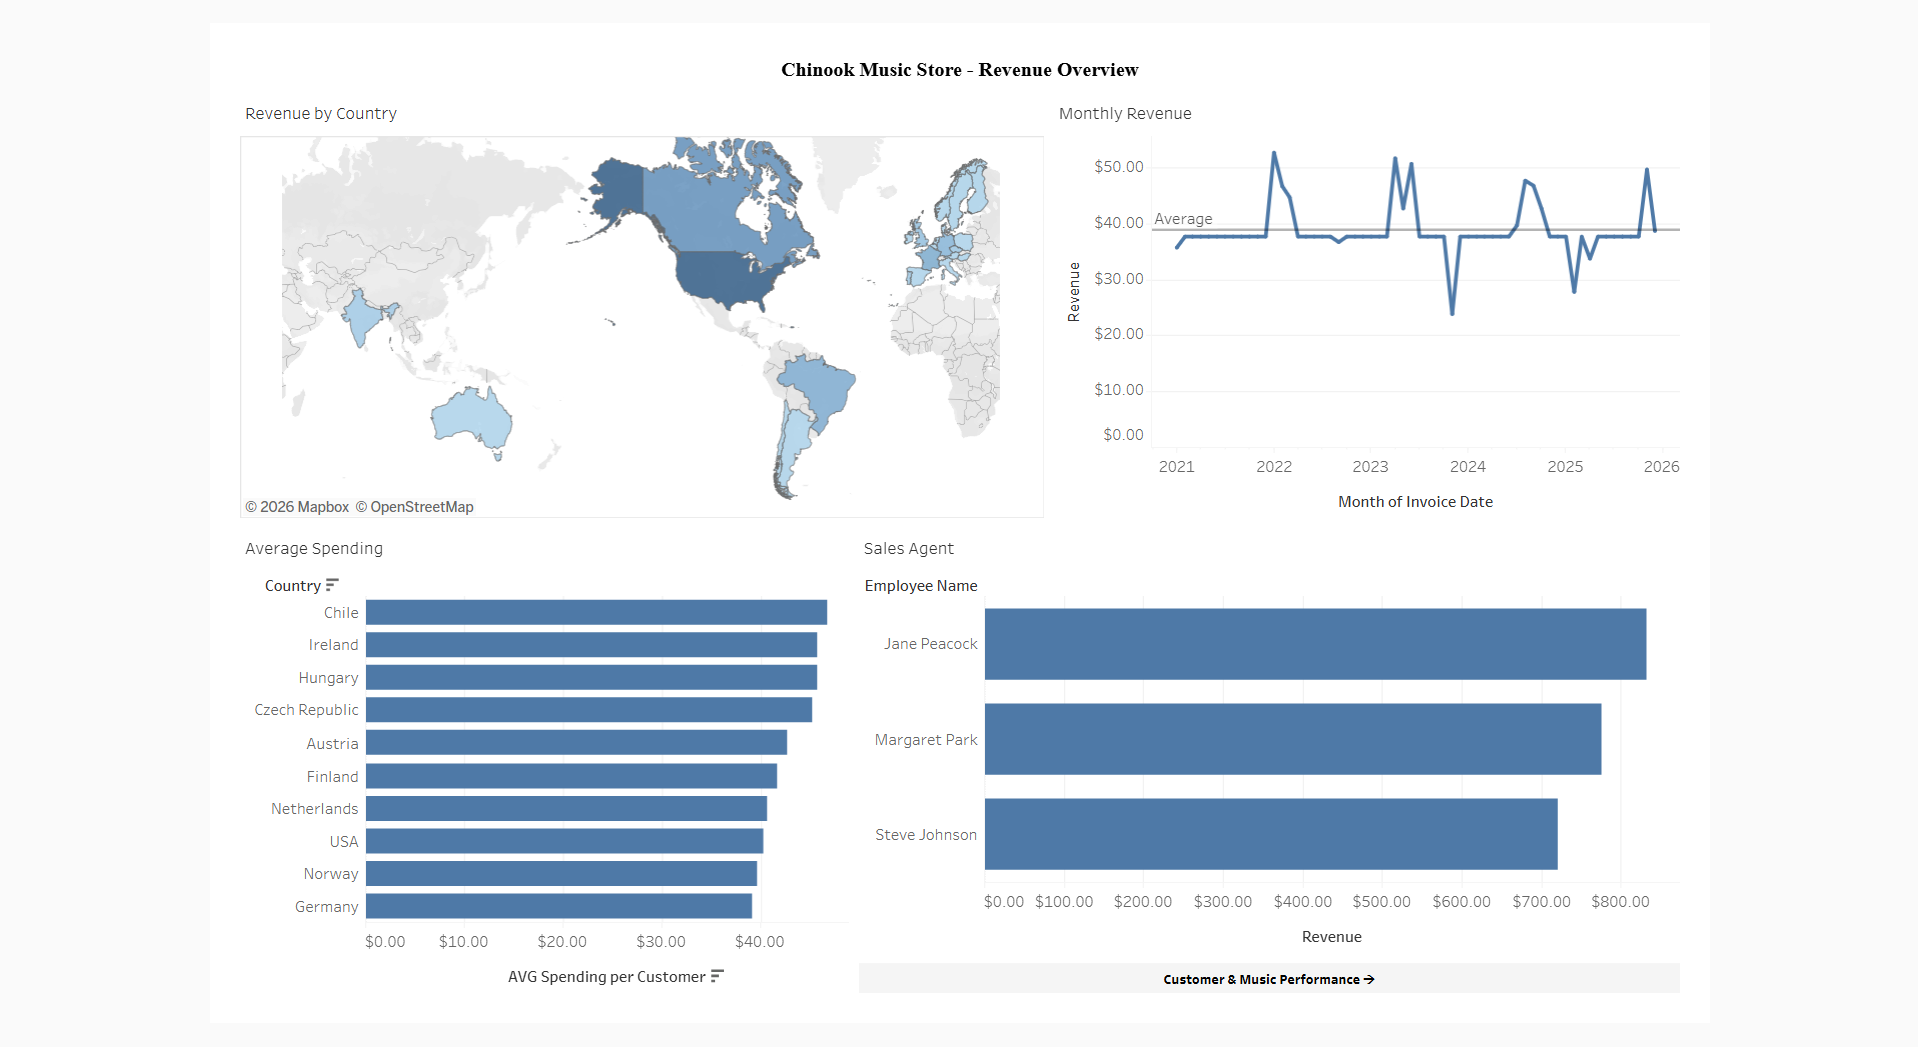

The page's visual inventory and layout, read from the dashboard file:
{"tool":"tableau","page":{"name":"Revenue Overview","canvas":[1200,800],"ordinal":1},"visuals":[{"type":"text","box":[20,20,1160,32]},{"type":"worksheet","title":"Revenue by Country","mark":"Automatic","box":[20,52,651,348]},{"type":"worksheet","title":"Monthly Revenue","mark":"Automatic","rows":["revenue"],"cols":["invoice_date"],"box":[671,52,509,348]},{"type":"worksheet","title":"Average Spending","mark":"Automatic","rows":["country"],"cols":["Calculation_2069889962913793"],"box":[20,400,495,380]},{"type":"worksheet","title":"Sales Agent","mark":"Automatic","rows":["Calculation_2069889970987013"],"cols":["revenue"],"box":[515,400,665,348]},{"type":"dashboard-object","box":[515,748,665,32]}]}

Visuals, with their boxes on the page's 1200x800 design canvas (x1, y1, x2, y2). These are canvas units, not pixel positions in the 1918x1047 screenshot, which may show the page scaled, cropped or inside an application window:
text: 20 20 1180 52
"Revenue by Country" worksheet: 20 52 671 400
"Monthly Revenue" worksheet: 671 52 1180 400
"Average Spending" worksheet: 20 400 515 780
"Sales Agent" worksheet: 515 400 1180 748
dashboard-object: 515 748 1180 780
